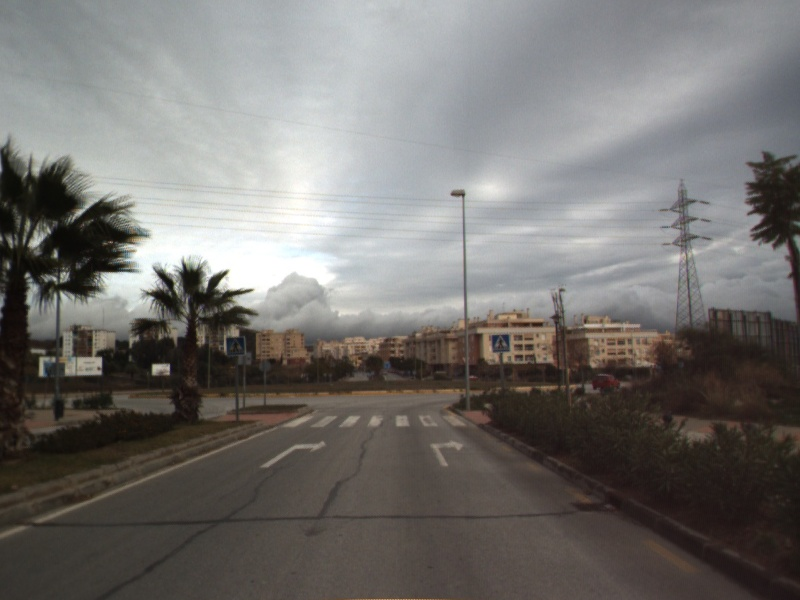RIGHT: (258, 438, 329, 470), (428, 437, 466, 468)
